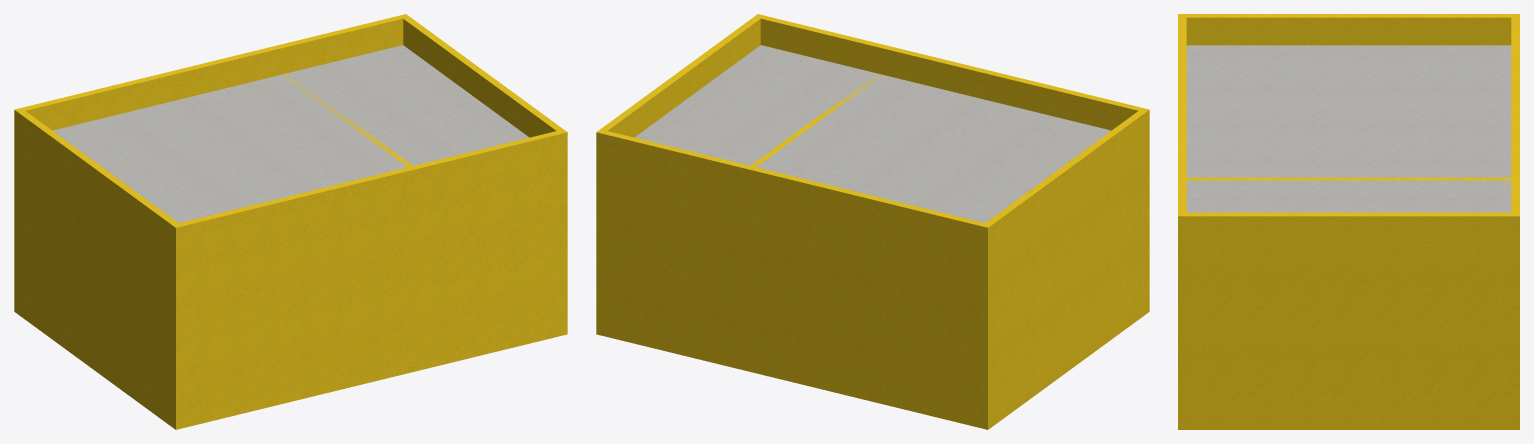
File: school_yellow.glb
The picture shows the model from 3 angles, left to right: view 1: azimuth 30°, elevation 25°; view 2: azimuth 150°, elevation 25°; view 3: azimuth 270°, elevation 25°; orthographic projection. The views are drawn at different scales.
Visible parts, largest first — view 1: SchoolYellow; view 2: SchoolYellow; view 3: SchoolYellow.
Boxes of the visible parts, bbox=[...] form: SchoolYellow: bbox=[14, 14, 567, 429]; SchoolYellow: bbox=[596, 14, 1149, 429]; SchoolYellow: bbox=[1178, 14, 1519, 429].
Bounding box in the file's own units: 14 × 6.9 × 10.
Materials: 4 (4 with a texture image).
